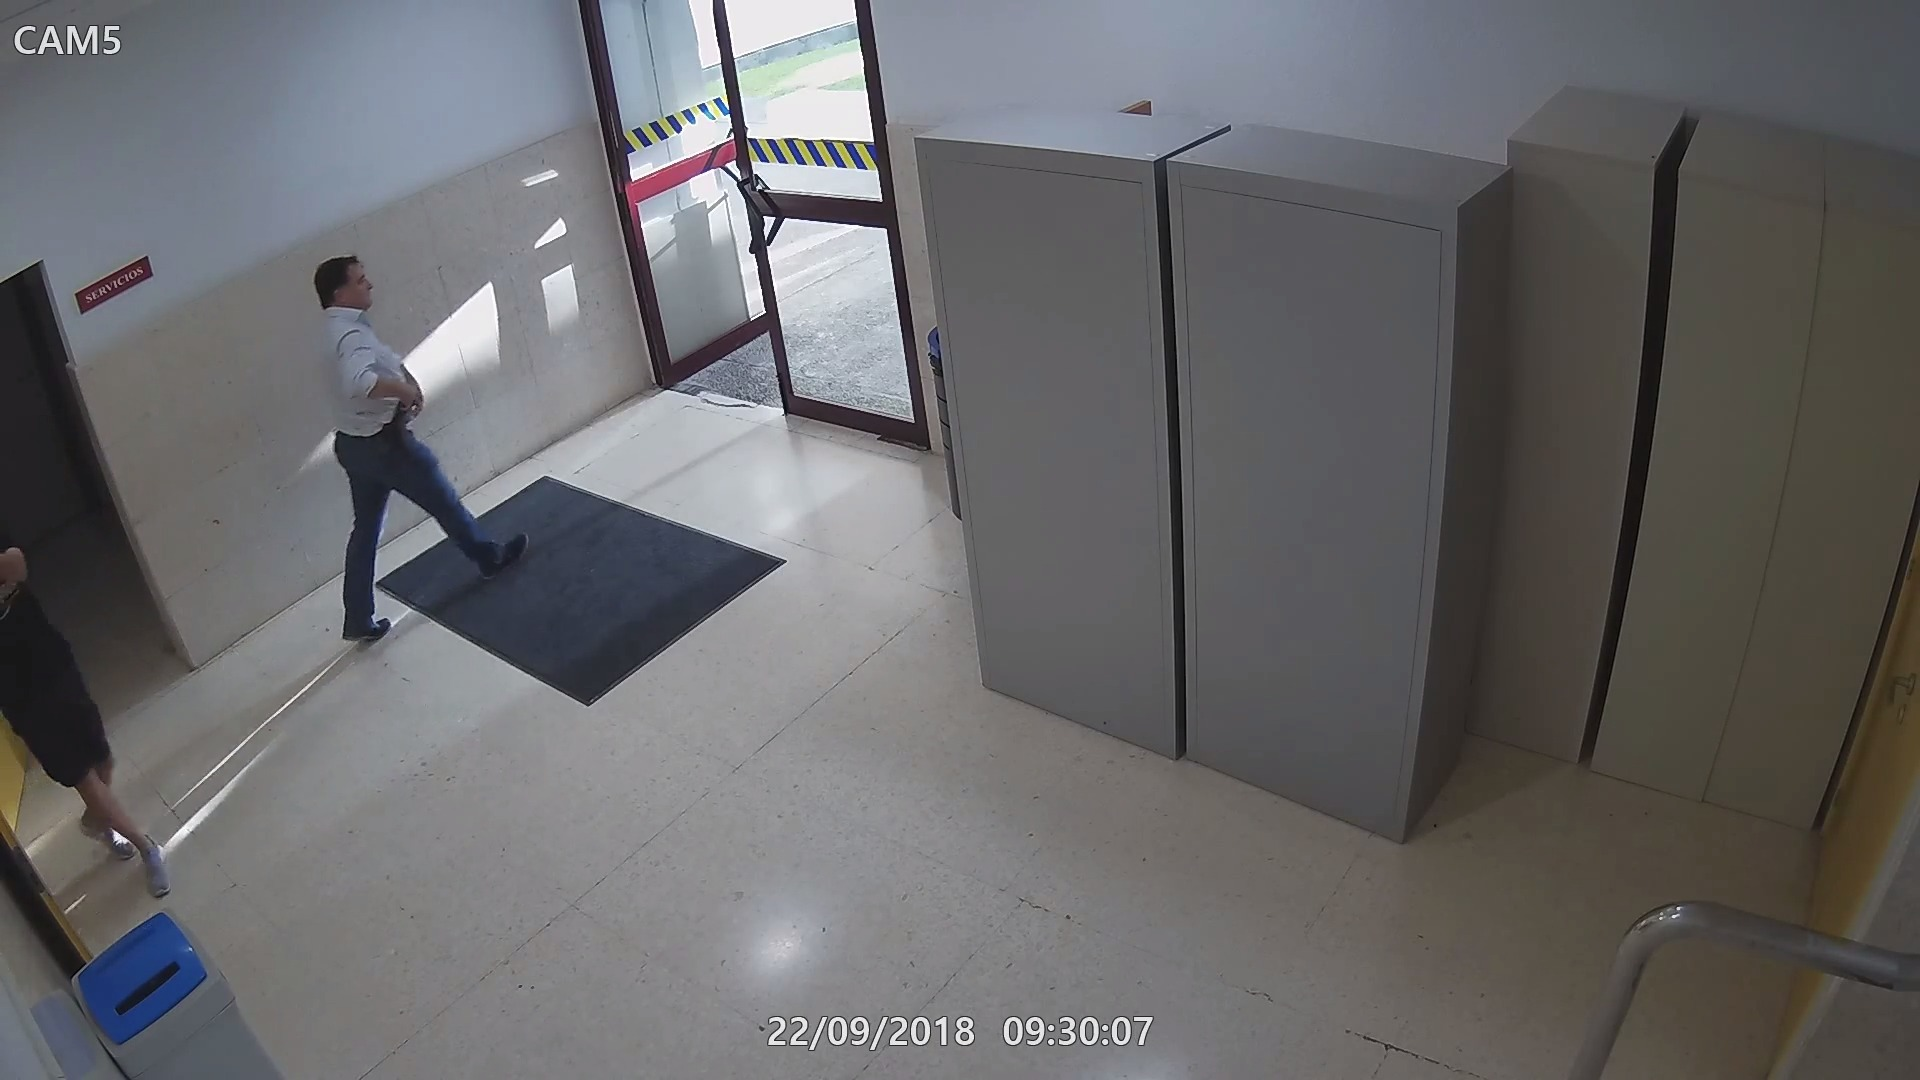Handgun: (396, 382, 423, 433)
